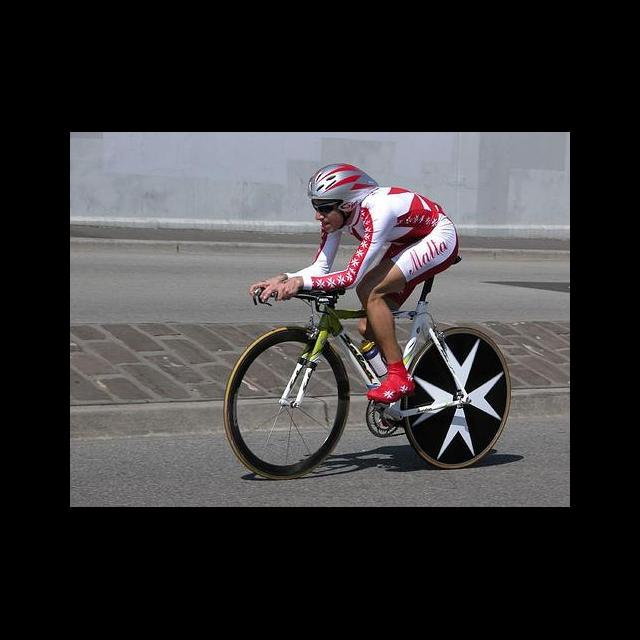Hardhat: (306, 163, 378, 199)
NO-Mask: (316, 208, 352, 232)
NO-Safety Vest: (352, 188, 442, 240)
Person: (251, 165, 459, 402)
